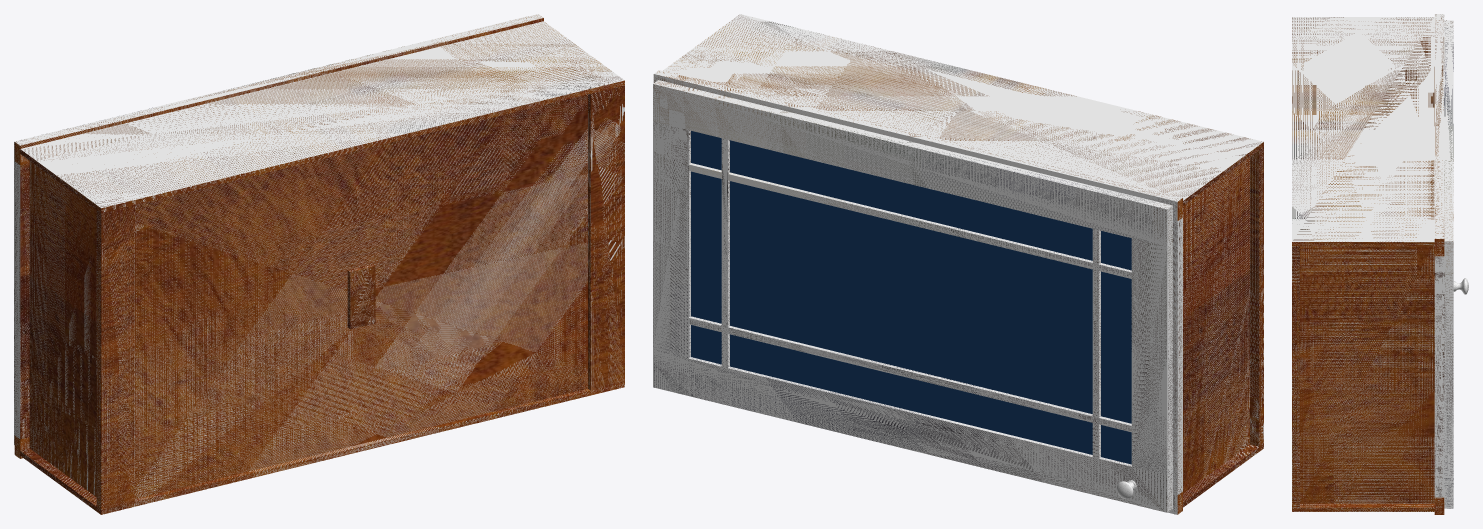
The picture shows the model from 3 angles, left to right: view 1: azimuth 30°, elevation 25°; view 2: azimuth 150°, elevation 25°; view 3: azimuth 270°, elevation 25°; orthographic projection. The views are drawn at different scales.
Visible parts, largest first — view 1: mesh11_mesh11-geometry, mesh9_mesh9-geometry, mesh2_mesh2-geometry, mesh3_mesh3-geometry, mesh6_mesh6-geometry, mesh8_mesh8-geometry, mesh7_mesh7-geometry, mesh5_mesh5-geometry, mesh22_mesh22-geometry; view 2: mesh13_mesh13-geometry, mesh9_mesh9-geometry, mesh16_mesh16-geometry, mesh12_mesh12-geometry, mesh3_mesh3-geometry, mesh14_mesh14-geometry, mesh15_mesh15-geometry, mesh8_mesh8-geometry, mesh17_mesh17-geometry, mesh20_mesh20-geometry, mesh11_mesh11-geometry, mesh7_mesh7-geometry (+4 smaller); view 3: mesh4_mesh4-geometry, mesh9_mesh9-geometry, mesh8_mesh8-geometry, mesh7_mesh7-geometry, mesh16_mesh16-geometry, mesh15_mesh15-geometry, mesh2_mesh2-geometry, mesh6_mesh6-geometry, mesh11_mesh11-geometry, mesh12_mesh12-geometry.
Boxes of the visible parts, x1,y1,x2,y2 form: mesh11_mesh11-geometry: (96,94,587,507); mesh9_mesh9-geometry: (20,21,624,212); mesh2_mesh2-geometry: (98,85,624,509); mesh3_mesh3-geometry: (29,161,96,496); mesh6_mesh6-geometry: (20,382,624,514); mesh8_mesh8-geometry: (14,14,543,165); mesh7_mesh7-geometry: (14,161,29,439); mesh5_mesh5-geometry: (347,264,375,329); mesh22_mesh22-geometry: (534,344,584,401); mesh13_mesh13-geometry: (691,131,1131,464); mesh9_mesh9-geometry: (663,14,1263,205); mesh16_mesh16-geometry: (653,80,1172,246); mesh12_mesh12-geometry: (653,350,1172,512); mesh3_mesh3-geometry: (1183,157,1249,492); mesh14_mesh14-geometry: (1131,238,1172,475); mesh15_mesh15-geometry: (653,121,690,358); mesh8_mesh8-geometry: (653,70,1182,221); mesh17_mesh17-geometry: (689,163,1131,278); mesh20_mesh20-geometry: (689,316,1131,432); mesh11_mesh11-geometry: (1250,149,1261,446); mesh7_mesh7-geometry: (1173,217,1182,495); mesh4_mesh4-geometry: (1300,246,1434,503); mesh9_mesh9-geometry: (1292,17,1434,246); mesh8_mesh8-geometry: (1434,14,1444,256); mesh7_mesh7-geometry: (1434,256,1444,497); mesh16_mesh16-geometry: (1444,20,1453,274); mesh15_mesh15-geometry: (1444,274,1453,475); mesh2_mesh2-geometry: (1292,246,1296,507); mesh6_mesh6-geometry: (1292,503,1434,511); mesh11_mesh11-geometry: (1297,246,1299,507); mesh12_mesh12-geometry: (1444,475,1453,508).
Bounding box in the file's own units: 0.8343 × 0.4767 × 0.2769.
